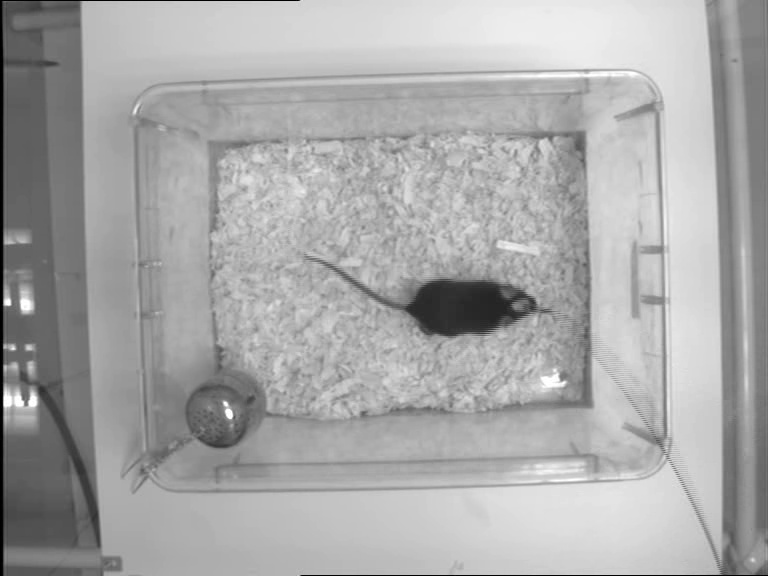mice: (303, 251, 540, 338)
